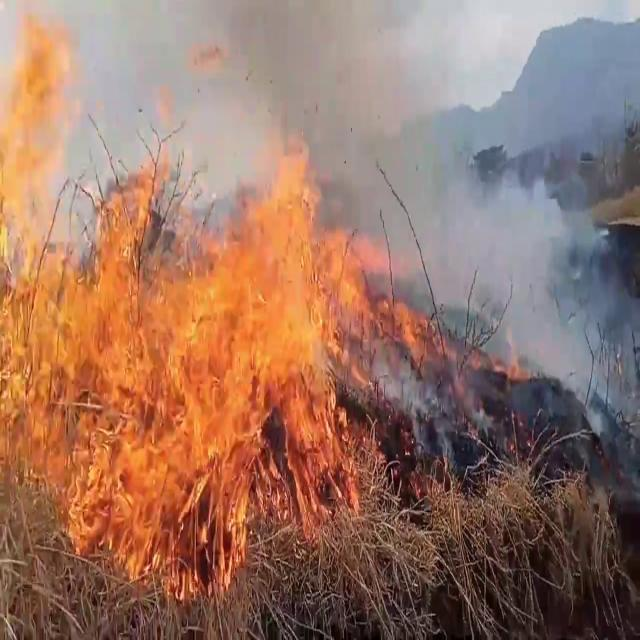Fire: (8, 115, 426, 580)
Smoke: (403, 90, 628, 436)
